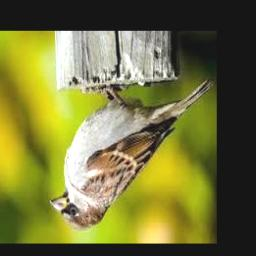Sparrow: (50, 81, 214, 230)
